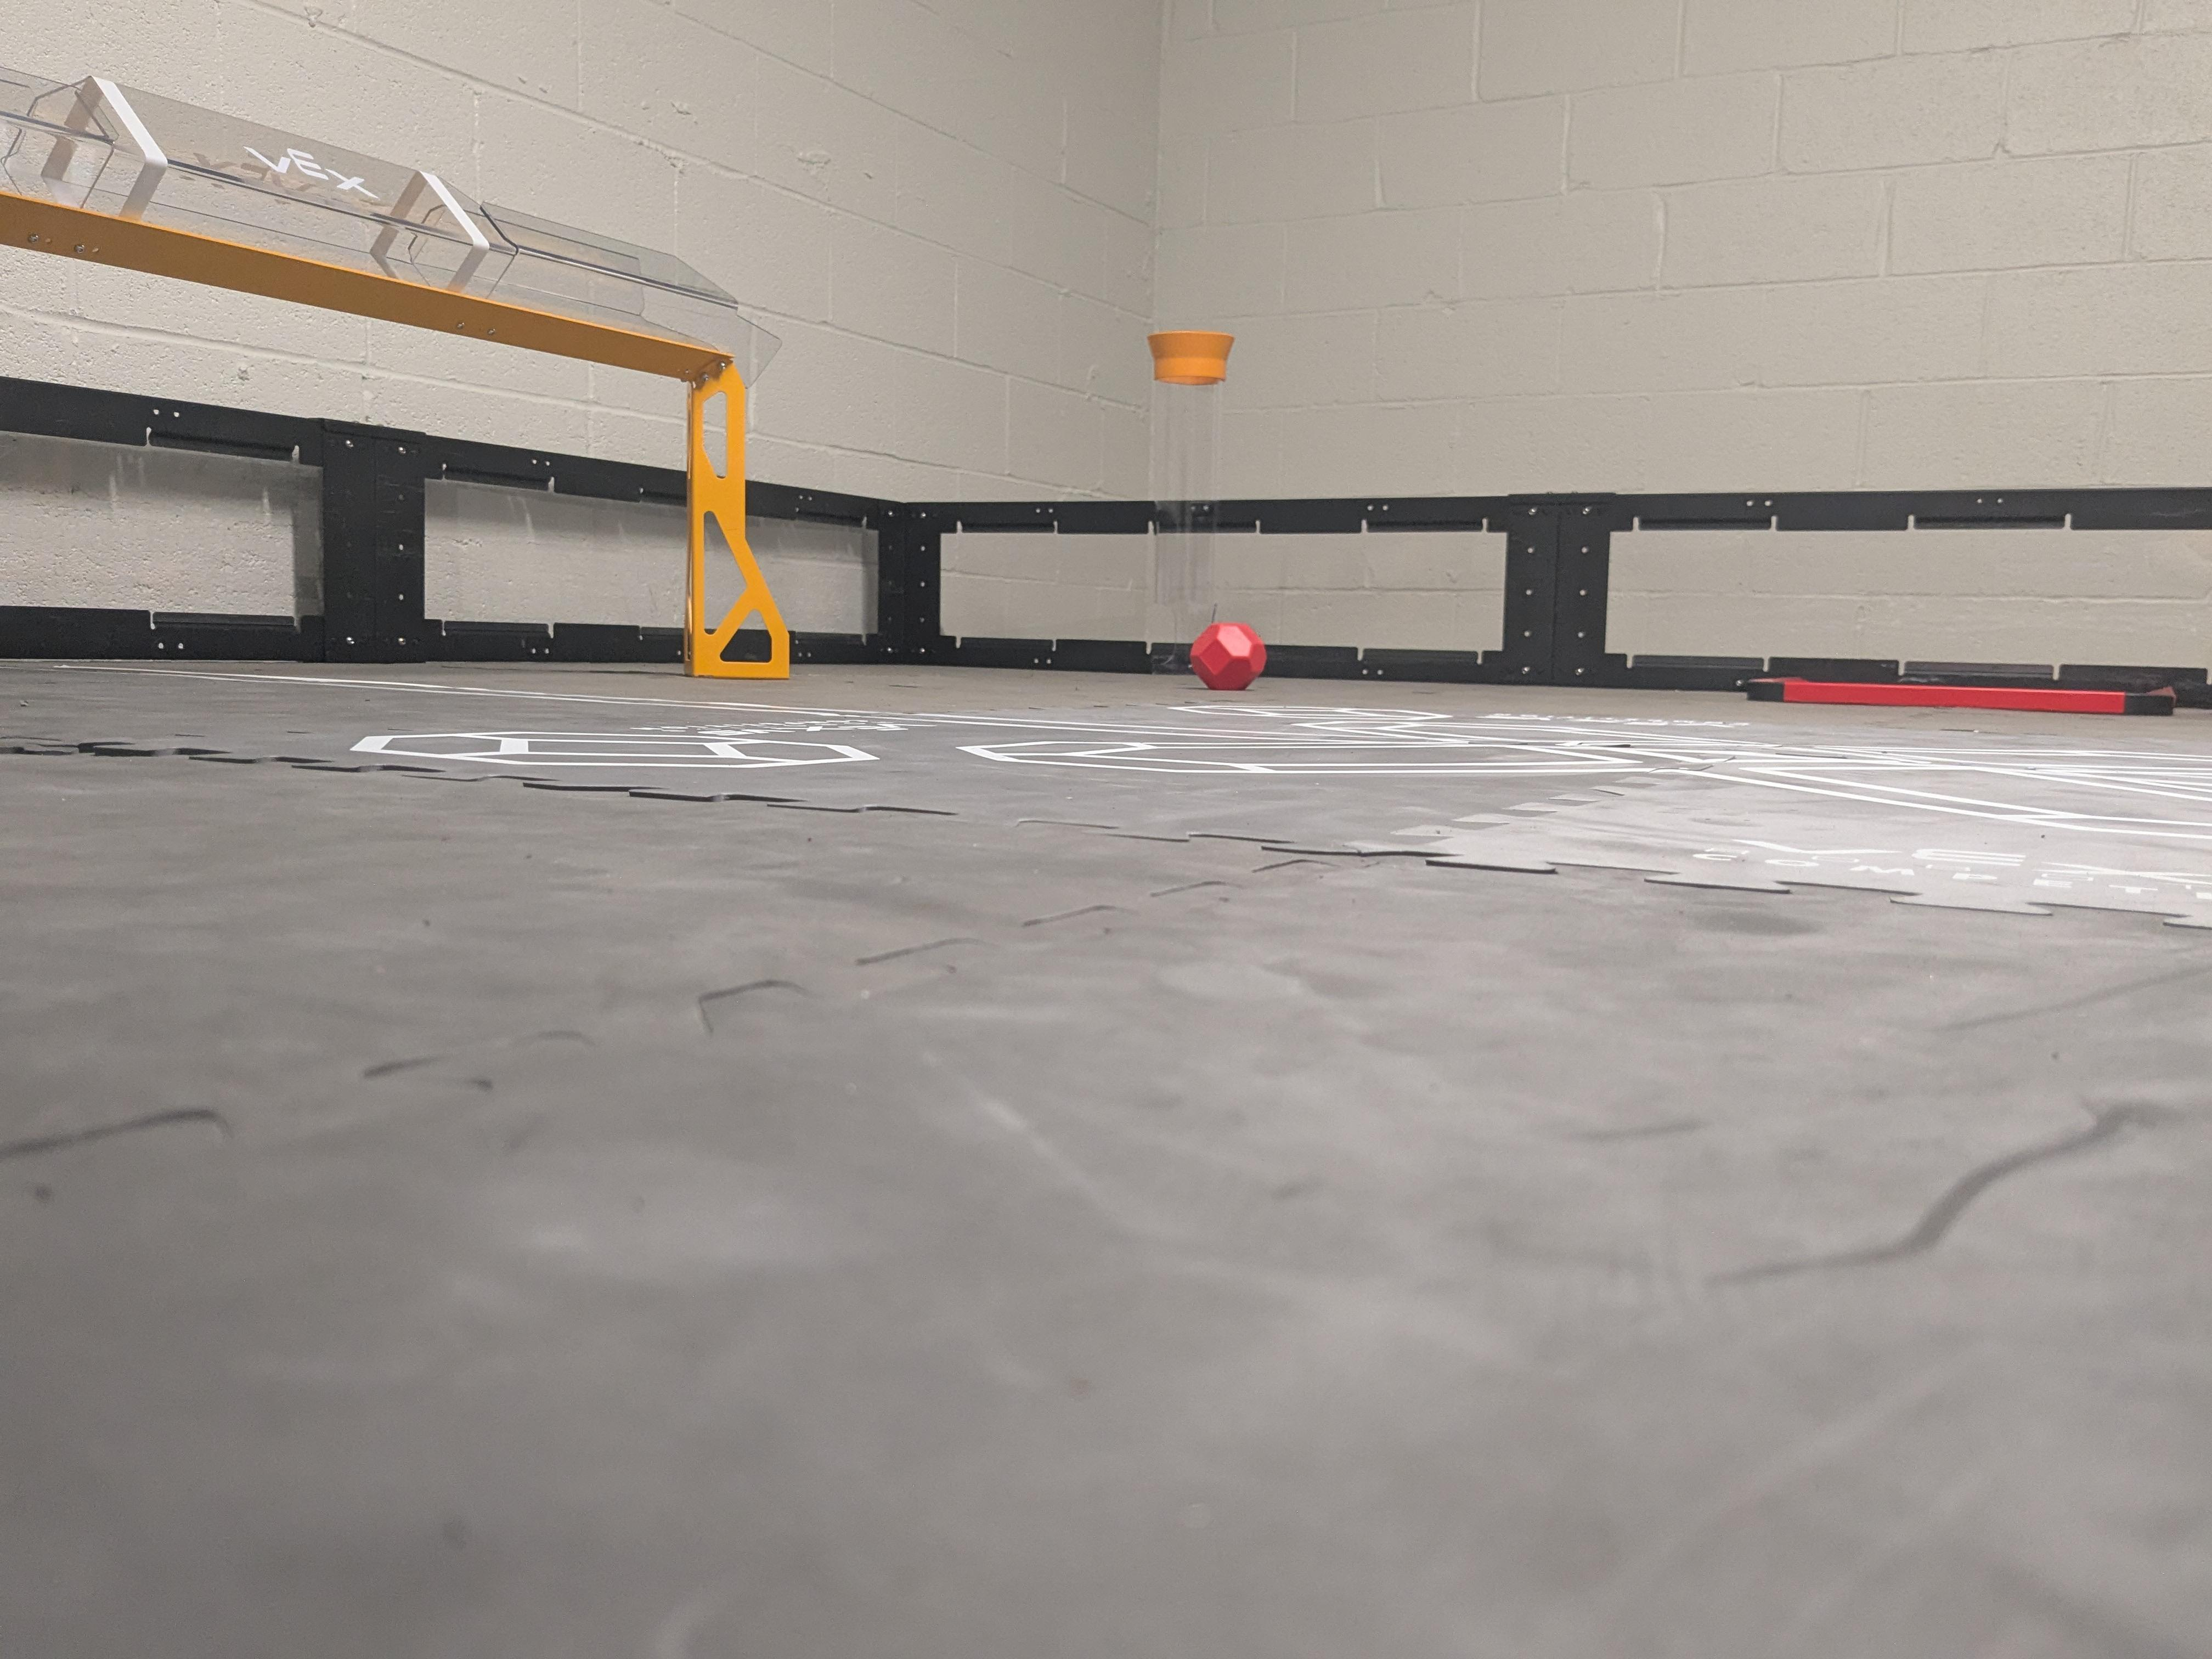Vex-Pieces-RED: (1190, 622, 1266, 690)
